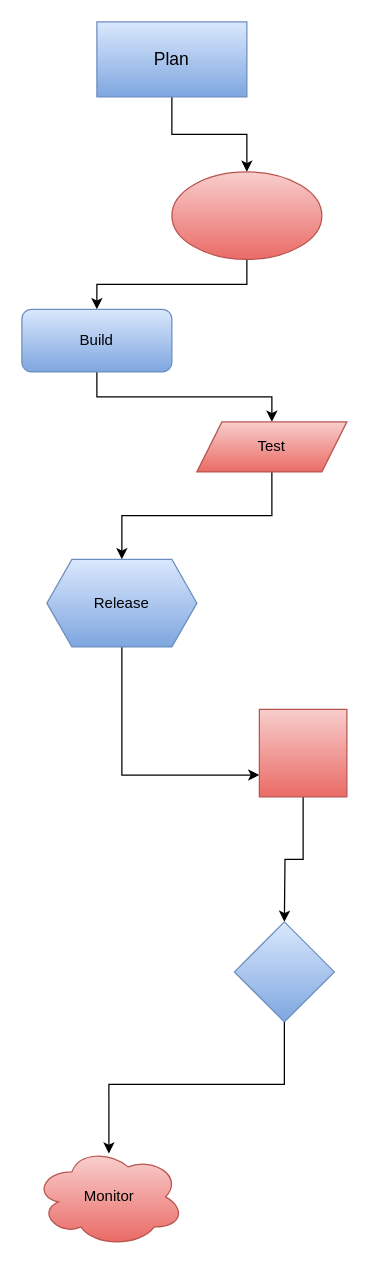
This 369x1269 diagram has some shape labels left out. Each missing label, with the box of its shape:
Deploy: (258, 708, 347, 797)
Desktop: (171, 171, 322, 259)
Operator: (233, 921, 334, 1022)
